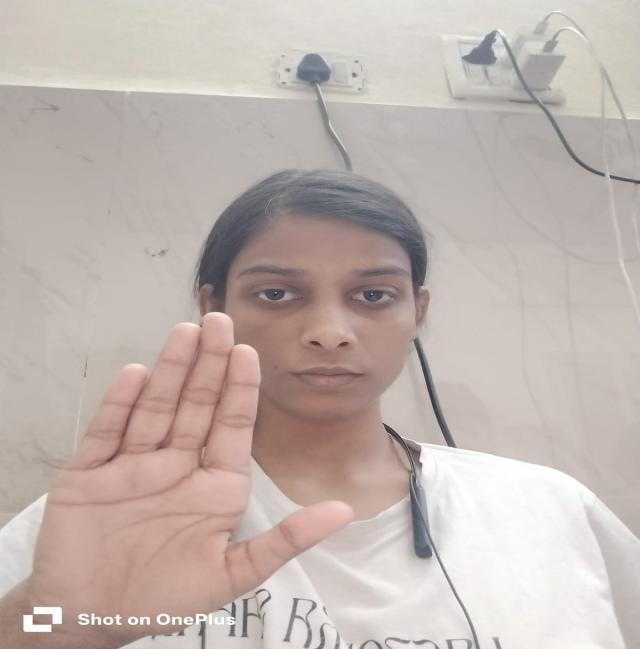Hello: (16, 295, 356, 619)
